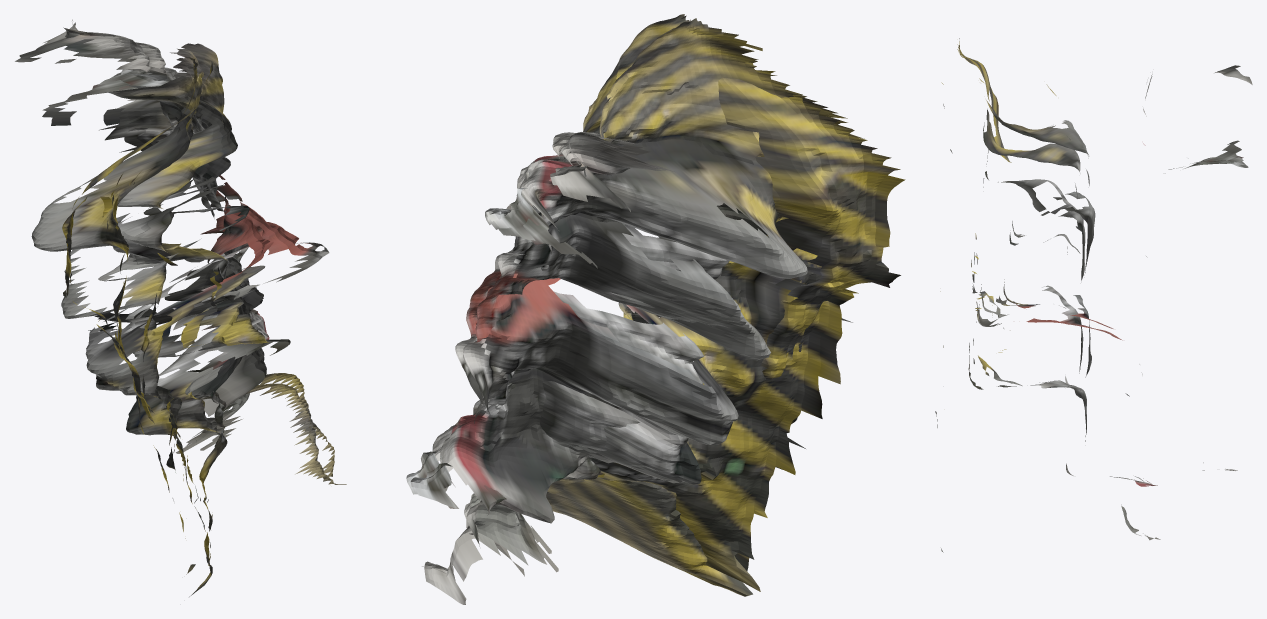
The model's file is entity-work-platform-3.glb.
3 views of the same model, side by side, from view 1: azimuth 30°, elevation 25°; view 2: azimuth 150°, elevation 25°; view 3: azimuth 270°, elevation 25° (orthographic). The views are drawn at different scales.
Visible parts, largest first — view 1: geometry_0; view 2: geometry_0; view 3: geometry_0.
Boxes of the visible parts, box(x1,y1,x2,y2) form: geometry_0: box(15, 19, 346, 596); geometry_0: box(406, 14, 905, 604); geometry_0: box(935, 38, 1252, 552).
Bounding box in the file's own units: 2.25 × 3.22 × 1.68.
